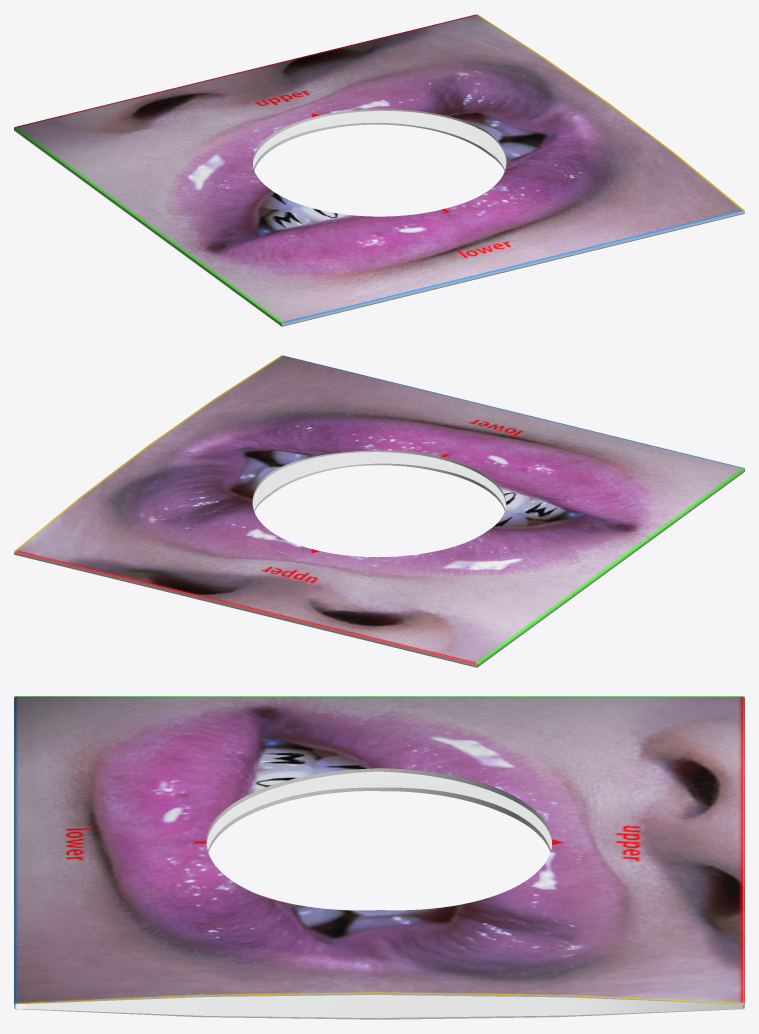
The model's file is sleeve_7_single_no_spine_holed.dae.
3 views of the same model, one above another, from view 1: azimuth 30°, elevation 25°; view 2: azimuth 150°, elevation 25°; view 3: azimuth 270°, elevation 25° (orthographic). The views are drawn at different scales.
Visible parts, largest first — view 1: sleeve; view 2: sleeve; view 3: sleeve.
Boxes of the visible parts, box(x1,y1,x2,y2) form: sleeve: box(14, 14, 744, 326); sleeve: box(14, 355, 744, 667); sleeve: box(14, 696, 744, 1019).
Bounding box in the file's own units: 17.93 × 0.8504 × 17.99.
Materials: 1 (1 with a texture image).
